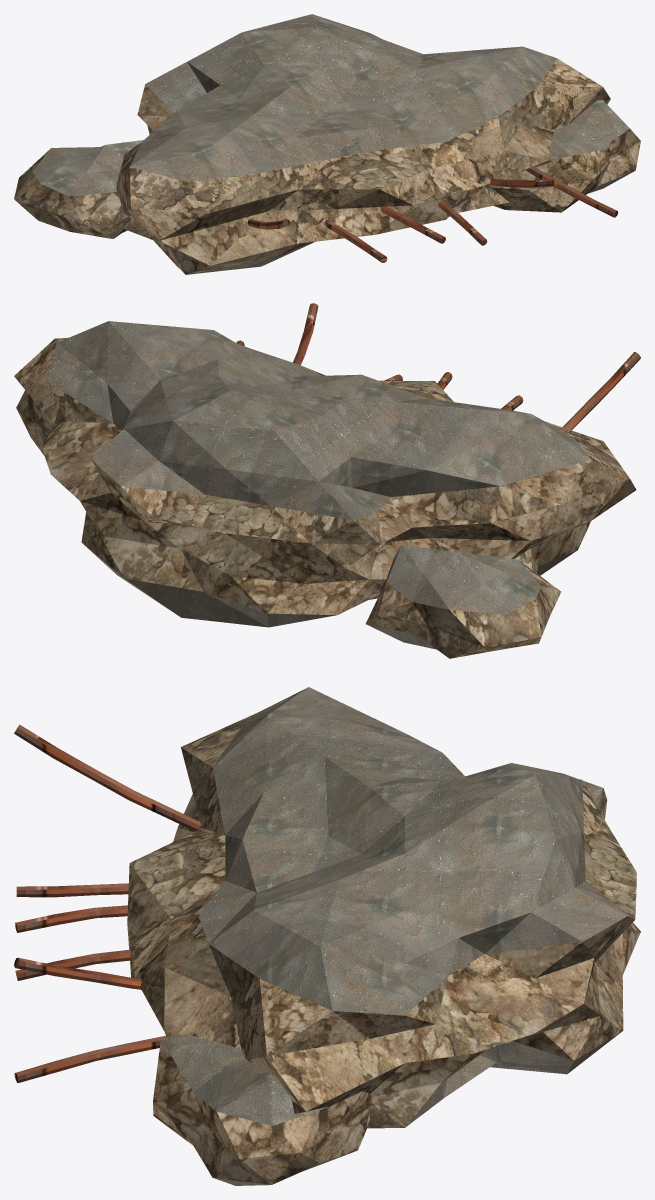
The model's file is Wreckage_Concrete.fbx.
3 views of the same model, one above another, from view 1: azimuth 30°, elevation 25°; view 2: azimuth 150°, elevation 25°; view 3: azimuth 270°, elevation 25° (orthographic). The views are drawn at different scales.
Visible parts, largest first — view 1: Wreckage_Concrete; view 2: Wreckage_Concrete; view 3: Wreckage_Concrete.
Part boxes in pixels (x1,y1,x2,y2): Wreckage_Concrete: [14, 14, 640, 274]; Wreckage_Concrete: [14, 303, 640, 658]; Wreckage_Concrete: [14, 687, 640, 1185].
Bounding box in the file's own units: 2.39 × 0.6895 × 1.65.
Materials: 3 (3 with a texture image).
